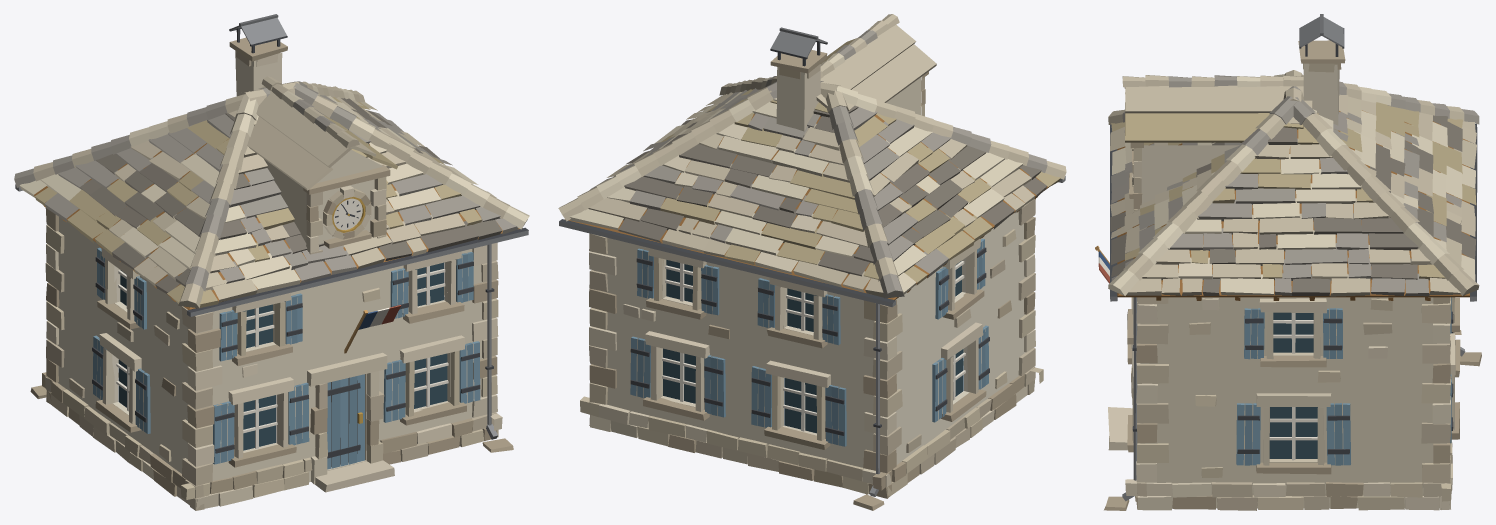
Rendered from ecole.glb.
3 views of the same model, side by side, from view 1: azimuth 30°, elevation 25°; view 2: azimuth 150°, elevation 25°; view 3: azimuth 270°, elevation 25° (orthographic). The views are drawn at different scales.
Visible parts, largest first — view 1: ecole; view 2: ecole; view 3: ecole.
Part boxes in pixels (left/top/right/bottom): ecole: left=14, top=14, right=529, bottom=510; ecole: left=558, top=14, right=1066, bottom=510; ecole: left=1095, top=14, right=1481, bottom=510.
Bounding box in the file's own units: 8.27 × 8.86 × 7.57.
